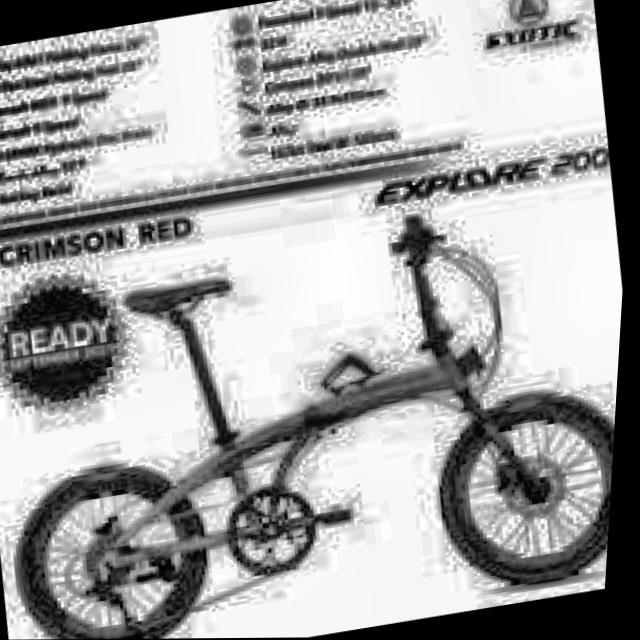motorcycle: (0, 181, 631, 640)
